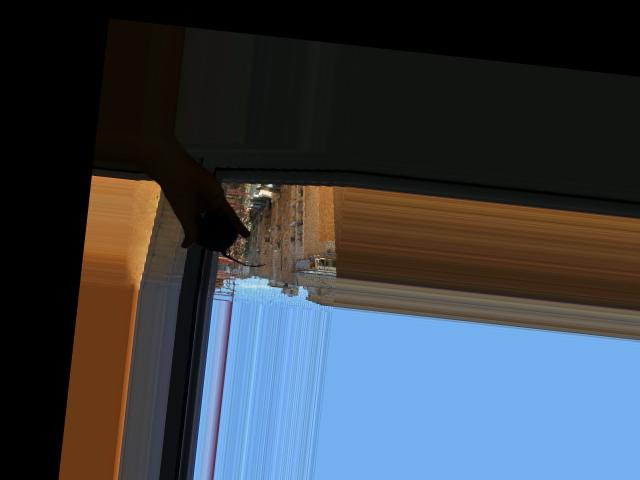beet: (194, 212, 271, 268)
